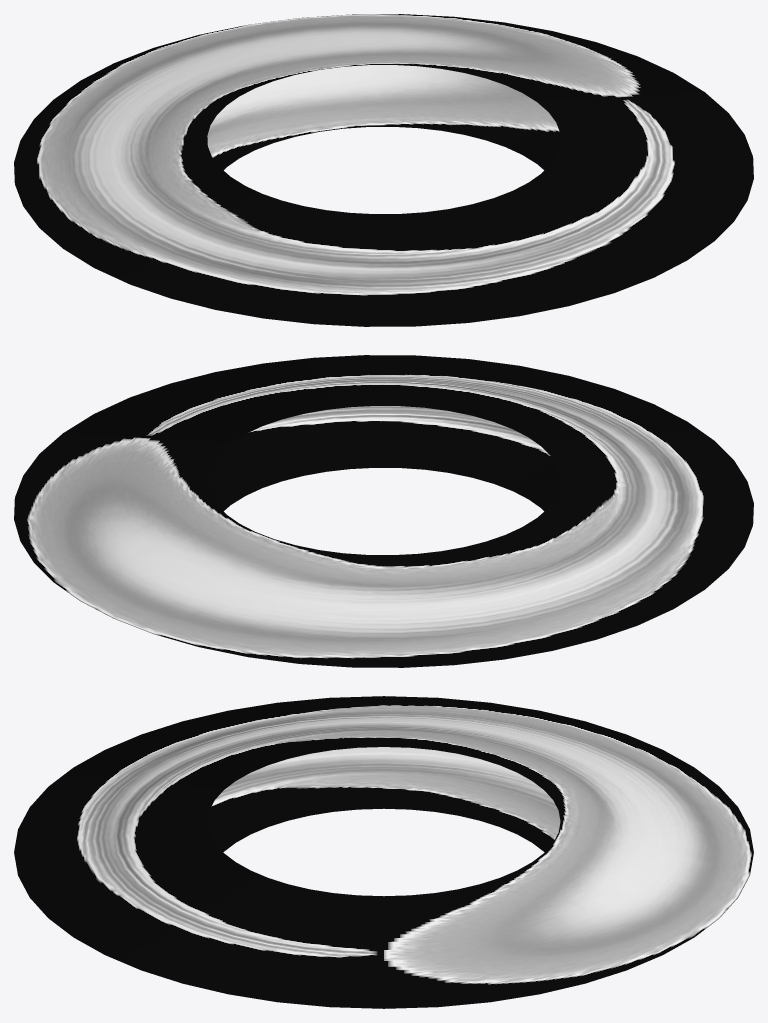
Rendered from yuanhuandaoguang 1.FBX.
3 views of the same model, one above another, from view 1: azimuth 30°, elevation 25°; view 2: azimuth 150°, elevation 25°; view 3: azimuth 270°, elevation 25° (orthographic).
Visible parts, largest first — view 1: Loft002; view 2: Loft002; view 3: Loft002.
Boxes of the visible parts, x1,y1,x2,y2 form: Loft002: (14,14,753,326); Loft002: (14,355,753,667); Loft002: (14,696,753,1008).
Bounding box in the file's own units: 120 × 11.06 × 120.
